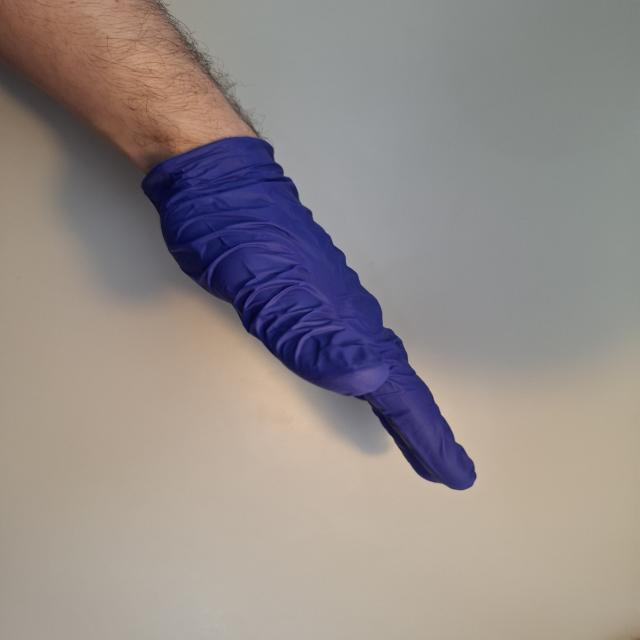glove_on: (138, 132, 480, 494)
